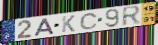2: (17, 20, 33, 40)
9: (104, 9, 121, 29)
A: (34, 17, 56, 37)
C: (79, 13, 99, 30)
K: (61, 14, 77, 33)
R: (122, 5, 143, 28)
